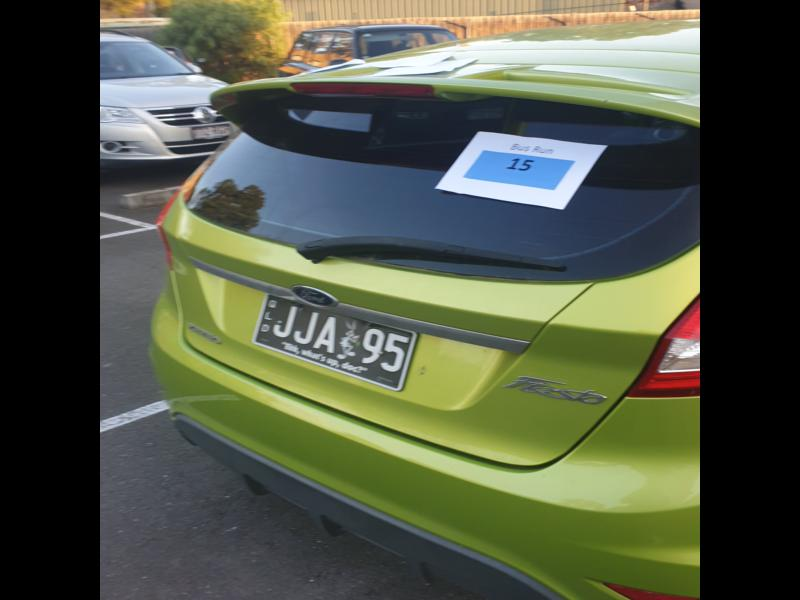BusRun: (468, 148, 573, 190)
PlateNo: (249, 289, 418, 394)
